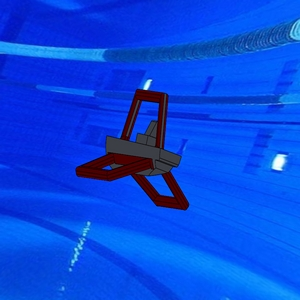submarine: (74, 87, 192, 213)
